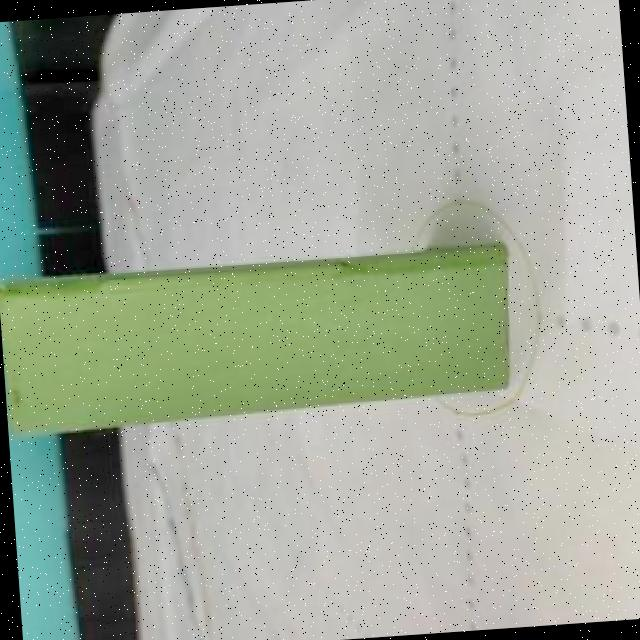greenbox: (0, 239, 515, 434)
